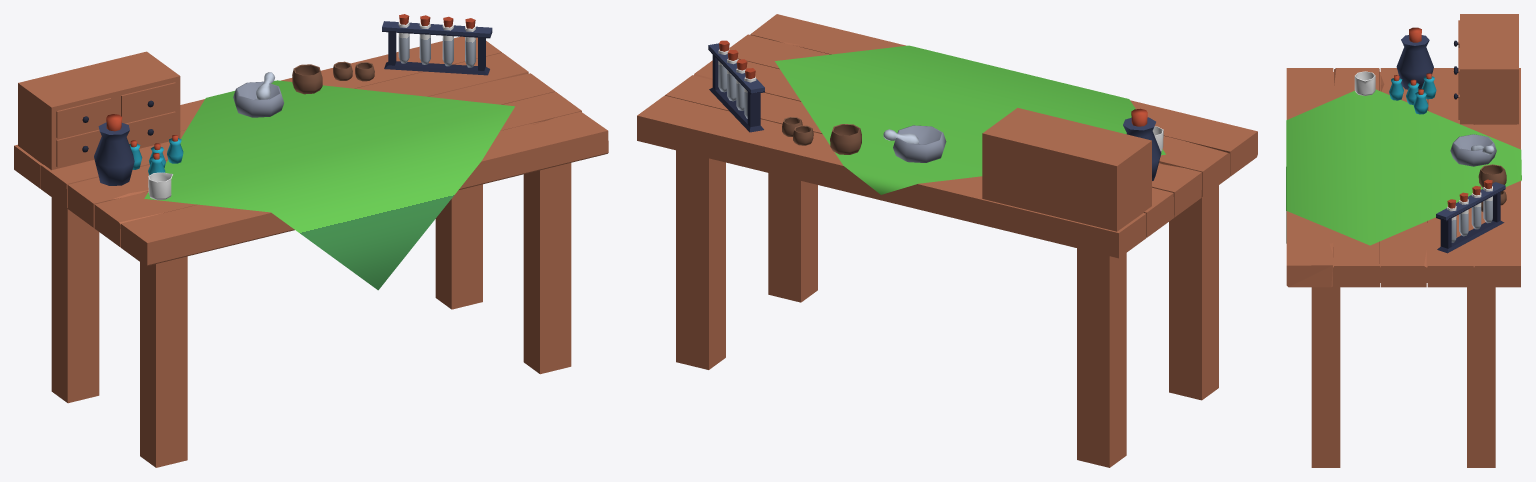
Rendered from AlchemyTable.fbx.
3 renders of one model, left to right at view 1: azimuth 30°, elevation 25°; view 2: azimuth 150°, elevation 25°; view 3: azimuth 270°, elevation 25°, orthographic. The views are drawn at different scales.
Visible parts, largest first — view 1: AlchemyTable; view 2: AlchemyTable; view 3: AlchemyTable.
Boxes of the visible parts, x1,y1,x2,y2 form: AlchemyTable: [14, 14, 608, 467]; AlchemyTable: [637, 14, 1257, 467]; AlchemyTable: [1286, 14, 1521, 467].
Bounding box in the file's own units: 2 × 1.26 × 1.01.
